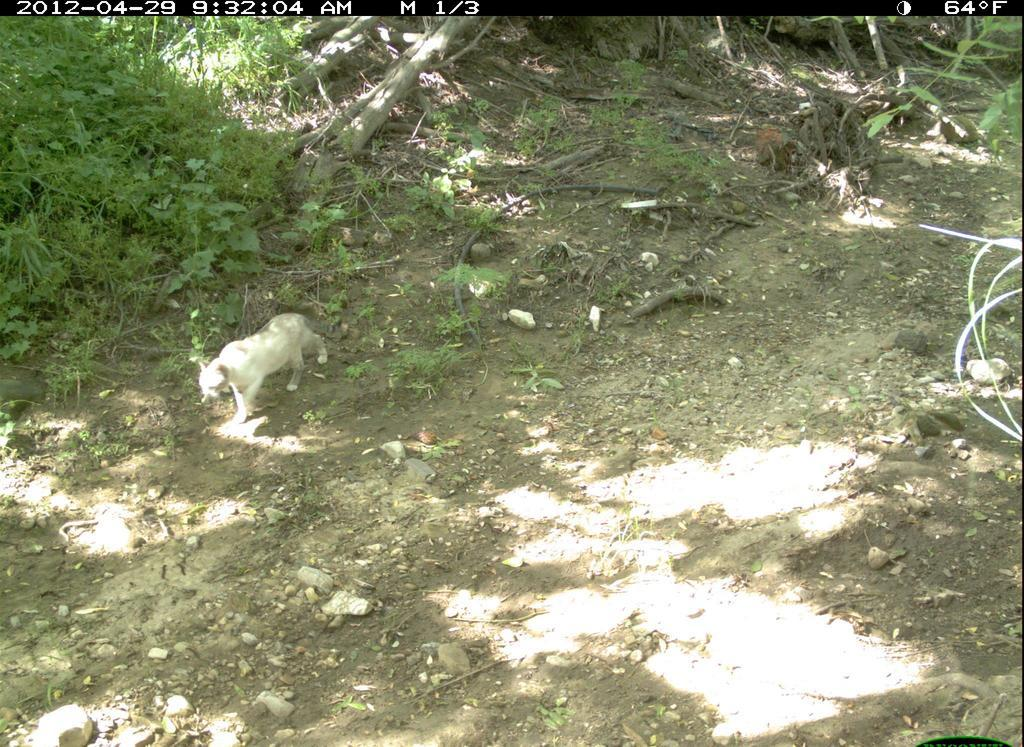cat: (186, 306, 351, 434)
